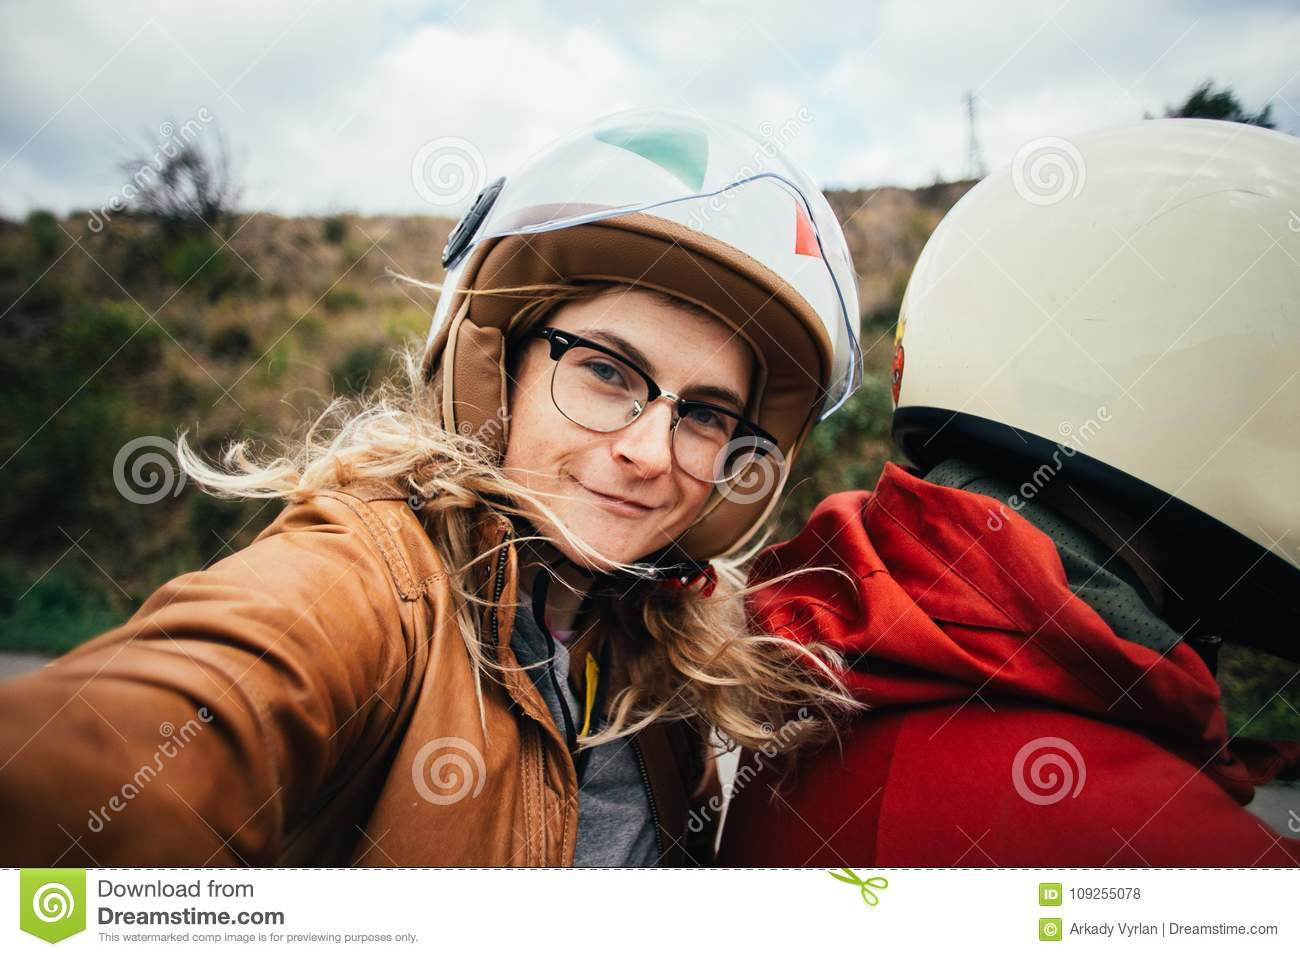helmet: (429, 135, 879, 473)
